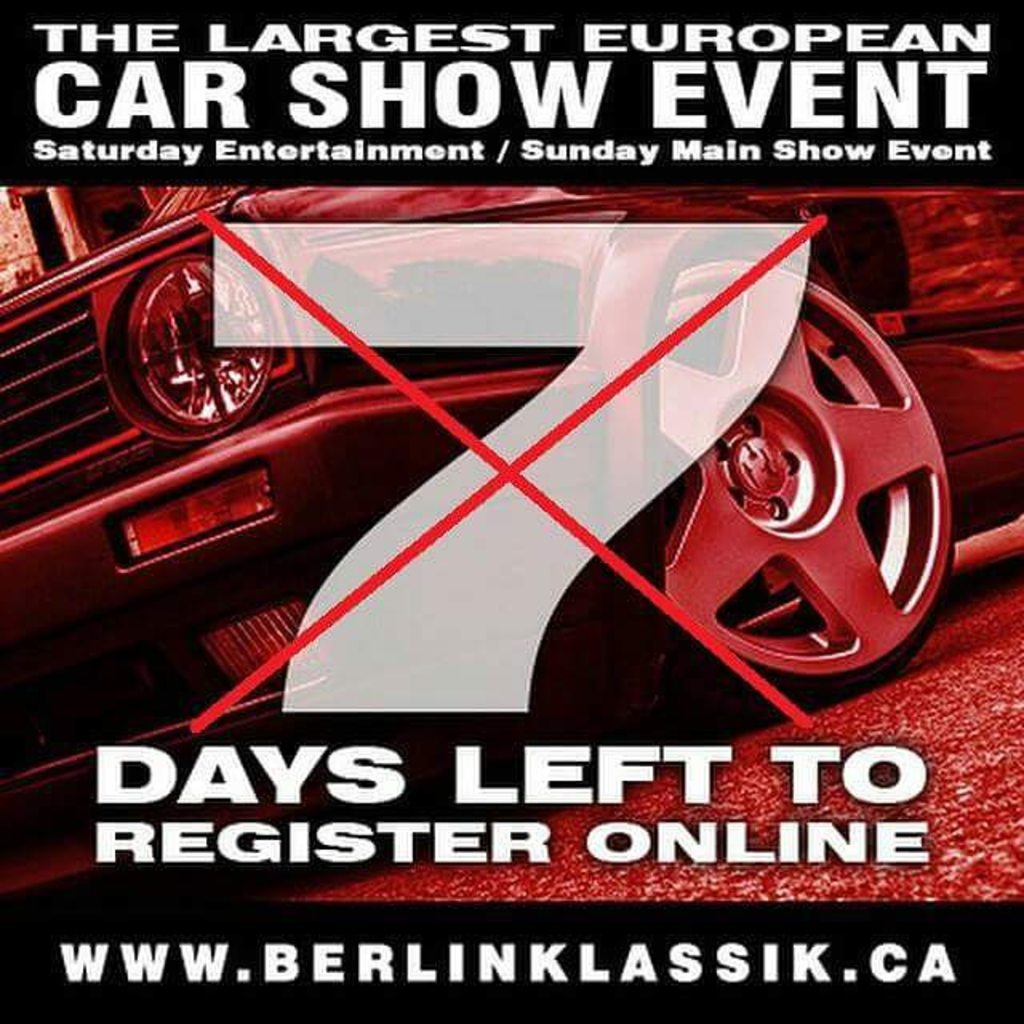cars: (0, 180, 1022, 729)
